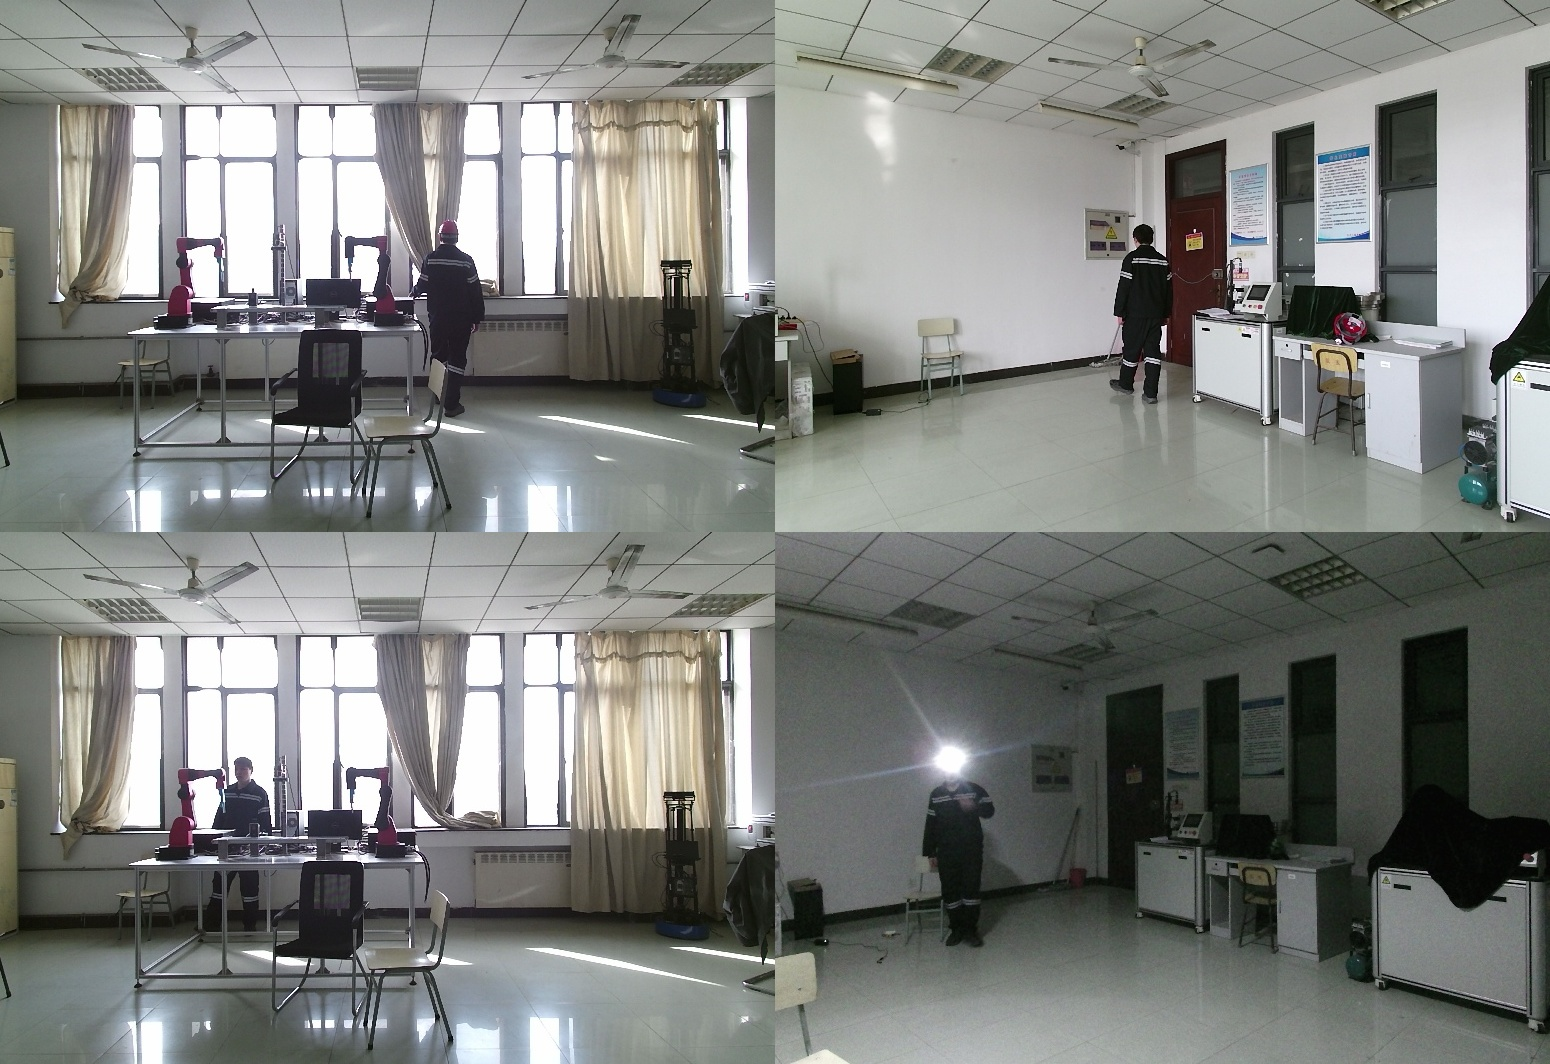person: (917, 753, 998, 962), (410, 222, 487, 423), (199, 758, 272, 946), (1111, 226, 1179, 410)
